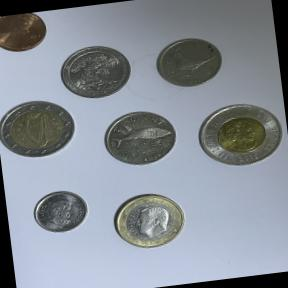coin: (190, 93, 288, 175), (104, 186, 194, 256), (96, 104, 184, 174), (52, 38, 139, 106), (0, 93, 81, 165), (28, 185, 94, 240), (0, 10, 55, 60)
